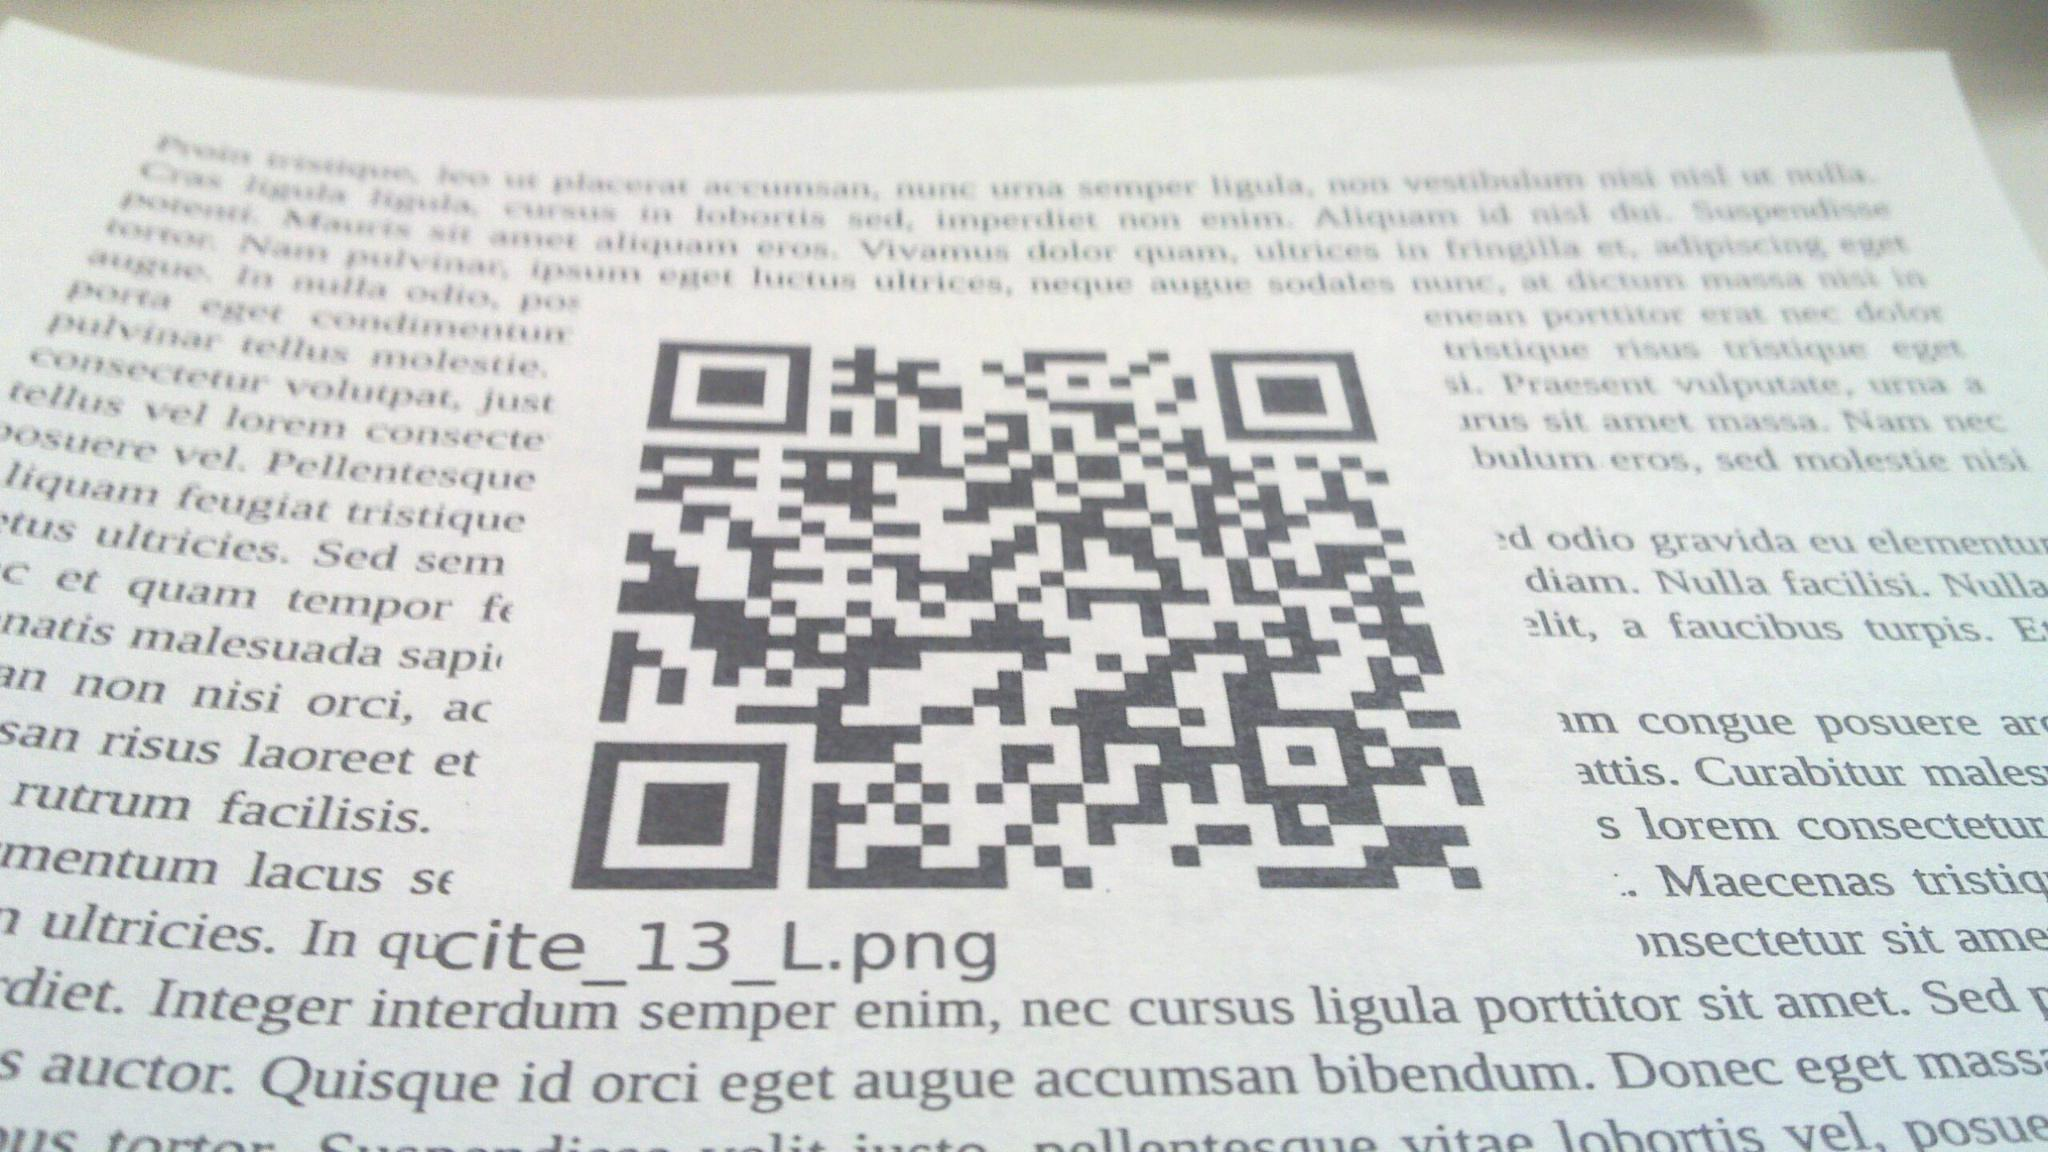Finder pattern: (567, 731, 798, 904), (1198, 342, 1390, 459), (643, 336, 819, 444)
